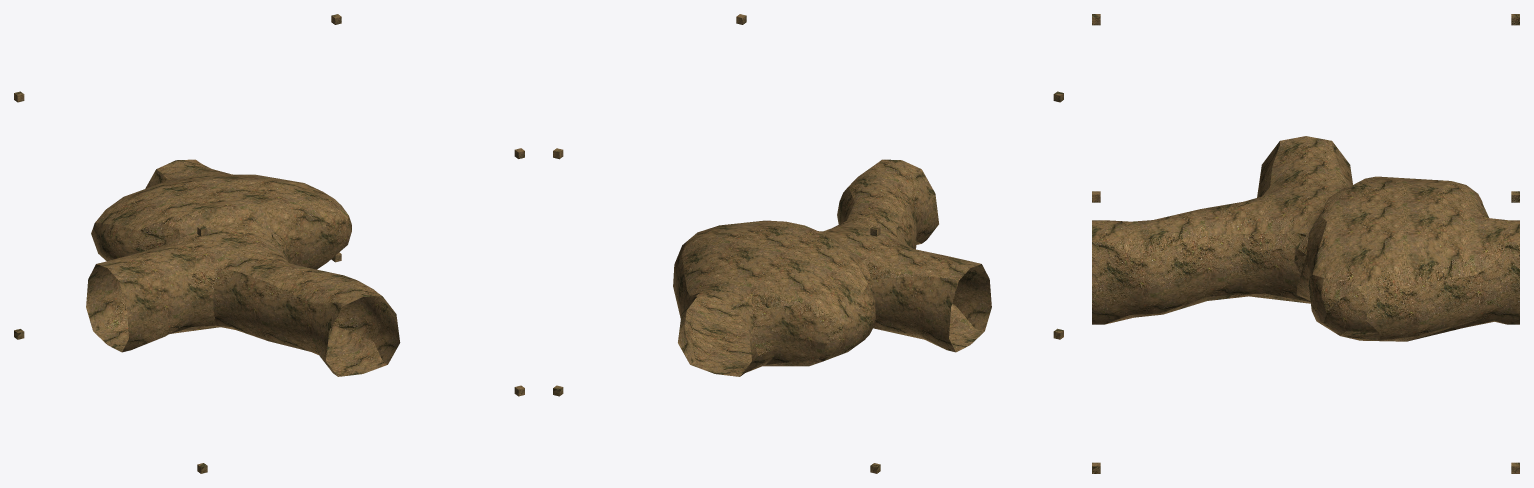
The model's file is lba_3d.glb.
The picture shows the model from 3 angles, left to right: view 1: azimuth 30°, elevation 25°; view 2: azimuth 150°, elevation 25°; view 3: azimuth 270°, elevation 25°; orthographic projection. The views are drawn at different scales.
Parts seen in each view (by area): view 1: lba_3d-col; view 2: lba_3d-col; view 3: lba_3d-col.
Part boxes in pixels (x1,y1,x2,y2): lba_3d-col: (14, 14, 524, 473); lba_3d-col: (553, 14, 1063, 473); lba_3d-col: (1092, 14, 1519, 473).
Size of the model in its own units: 15 by 10.8 by 15.
Materials: 1 (1 with a texture image).
